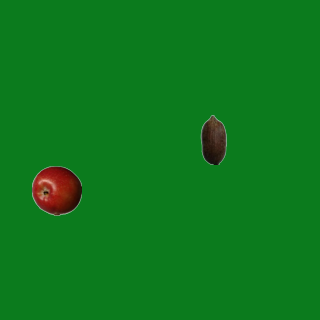Apple Braeburn: (31, 165, 81, 215)
Nut Pecan: (188, 114, 238, 164)
